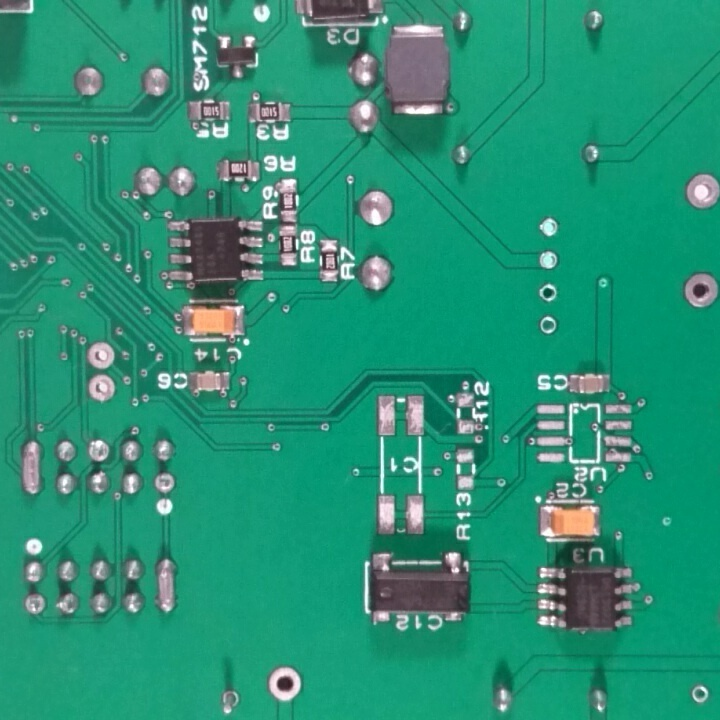F: (680, 168, 720, 213), (678, 270, 720, 311), (264, 663, 304, 703), (83, 374, 121, 405), (83, 338, 116, 372), (215, 685, 241, 719), (85, 438, 113, 467), (151, 469, 178, 498), (19, 591, 47, 618), (536, 214, 559, 240), (686, 683, 710, 706), (536, 282, 560, 305), (539, 247, 560, 273), (539, 316, 561, 338)
P: (151, 553, 181, 618), (19, 433, 44, 499)
